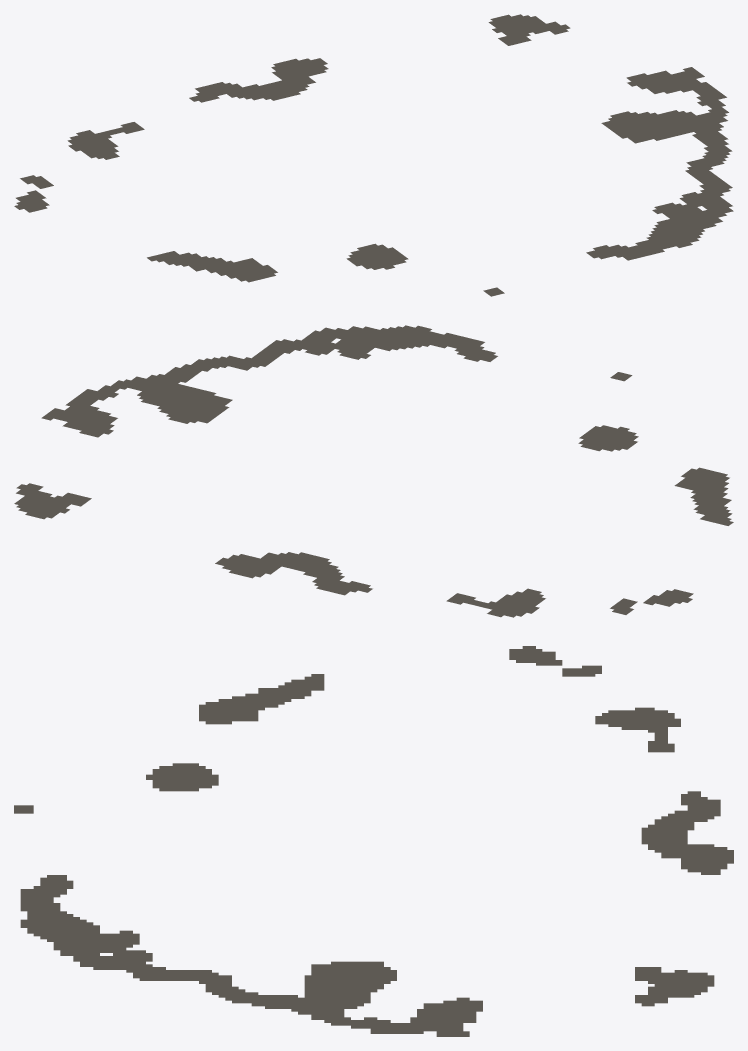
Rendered from Isl-start1-NoBuildArea.fbx.
3 renders of one model, top to bottom at view 1: azimuth 30°, elevation 25°; view 2: azimuth 150°, elevation 25°; view 3: azimuth 270°, elevation 25°, orthographic. The views are drawn at different scales.
Visible parts, largest first — view 1: Isl-start1-NoBuildArea; view 2: Isl-start1-NoBuildArea; view 3: Isl-start1-NoBuildArea.
Part boxes in pixels (x1,y1,x2,y2): Isl-start1-NoBuildArea: [14, 14, 733, 296]; Isl-start1-NoBuildArea: [14, 325, 733, 617]; Isl-start1-NoBuildArea: [14, 646, 733, 1036].
Size of the model in its own units: 140 by 0 by 109.
